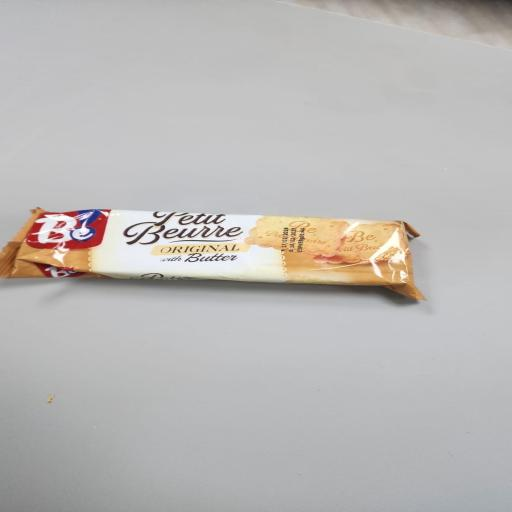petit-beurre: (0, 179, 485, 372)
